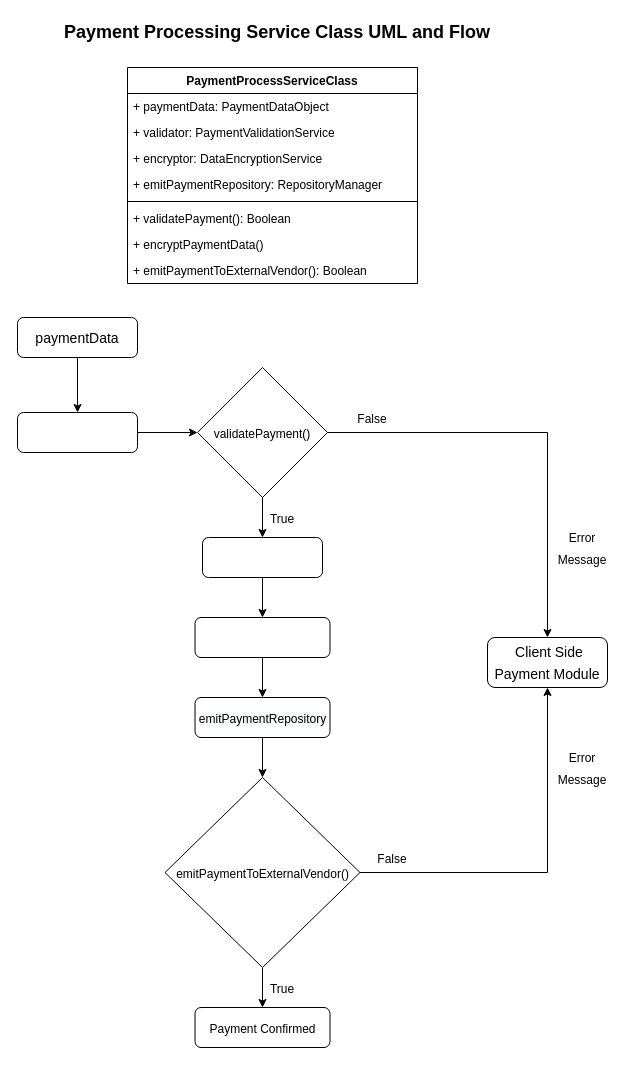
Some shapes in this 625 by 1065 pixel diagram are drawn without their labels. Each missing label, with the box of its shape:
encryptor: (202, 536, 322, 578)
encryptPaymentData(): (194, 616, 330, 658)
validator: (16, 412, 138, 452)
